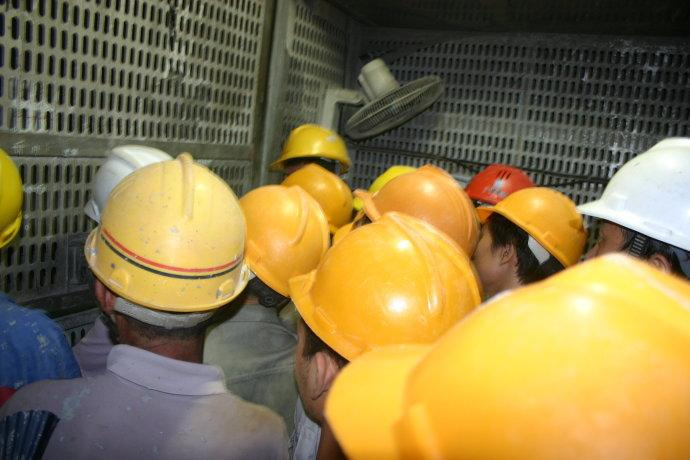helmet: (332, 240, 690, 460), (290, 210, 479, 369), (90, 160, 244, 304), (581, 128, 690, 255), (234, 179, 320, 287), (367, 167, 477, 251), (476, 184, 588, 263), (82, 133, 165, 216), (280, 164, 356, 226), (274, 126, 354, 170), (1, 145, 34, 240), (467, 160, 528, 204)
